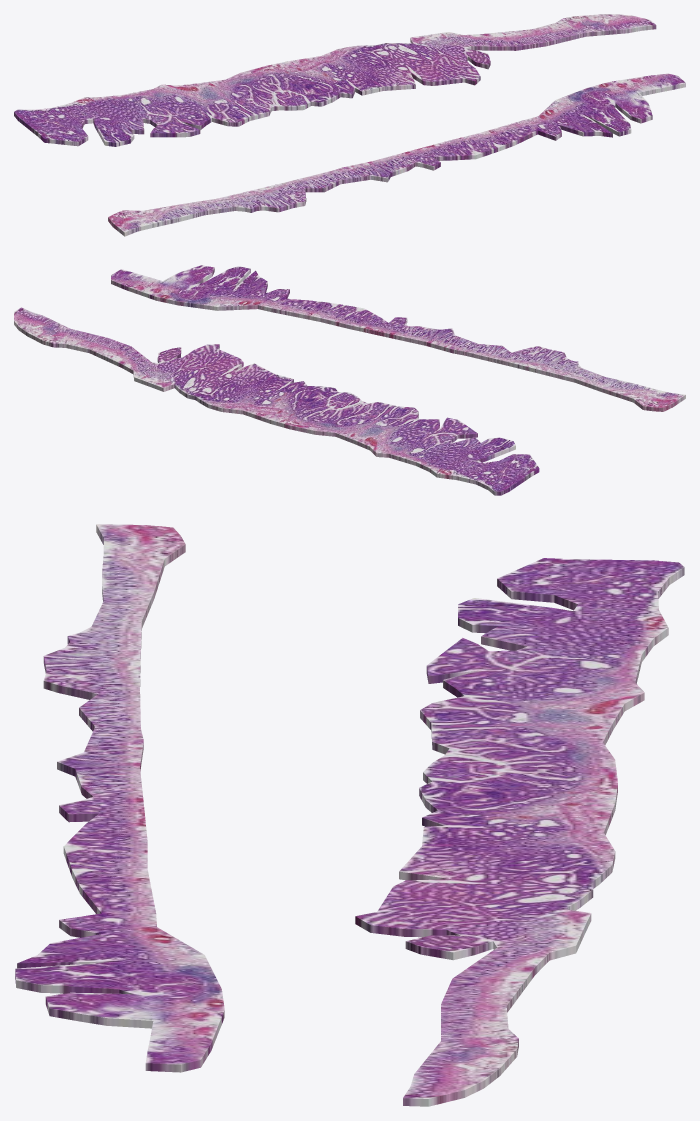
The picture shows the model from 3 angles, top to bottom: view 1: azimuth 30°, elevation 25°; view 2: azimuth 150°, elevation 25°; view 3: azimuth 270°, elevation 25°; orthographic projection. The views are drawn at different scales.
Parts seen in each view (by area): view 1: 平面; view 2: 平面; view 3: 平面.
Part boxes in pixels (x1,y1,x2,y2): 平面: [14, 14, 685, 236]; 平面: [14, 265, 685, 495]; 平面: [15, 524, 684, 1106].
Bounding box in the file's own units: 16.19 × 0.1021 × 7.97.
Materials: 1 (1 with a texture image).
